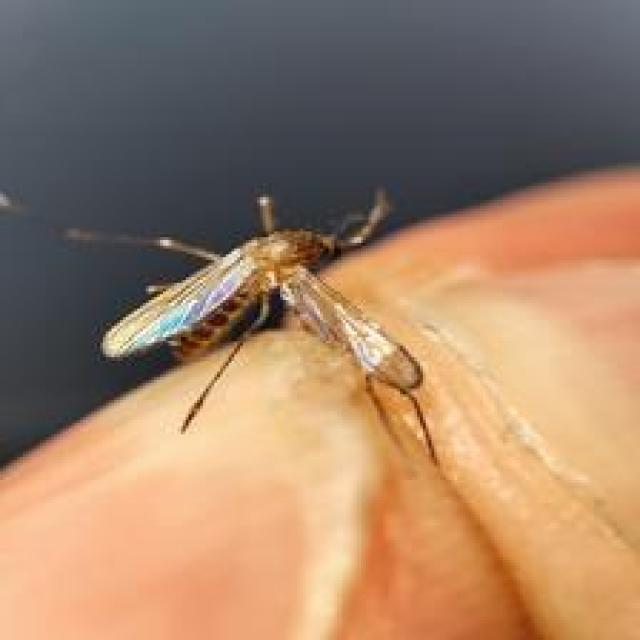Culex: (62, 184, 444, 470)
